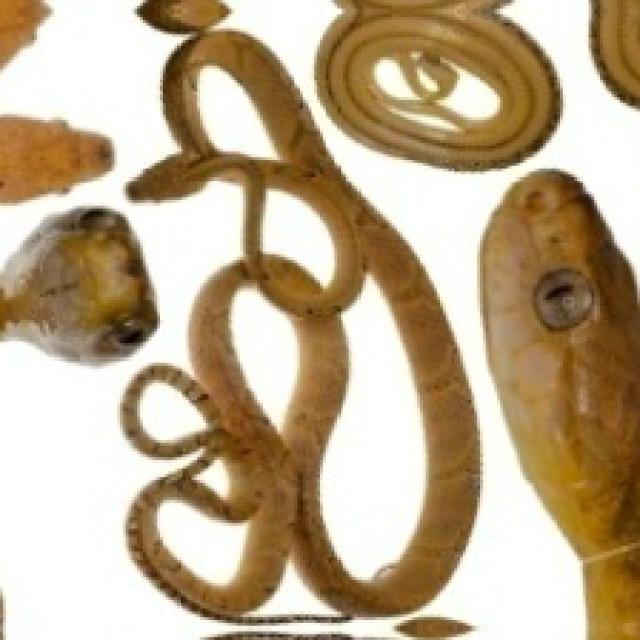philippine blunt-headed catsnake: (123, 0, 477, 617), (480, 171, 637, 637), (317, 0, 557, 169), (0, 209, 154, 363), (0, 116, 114, 202), (591, 0, 640, 106), (0, 0, 50, 67)
